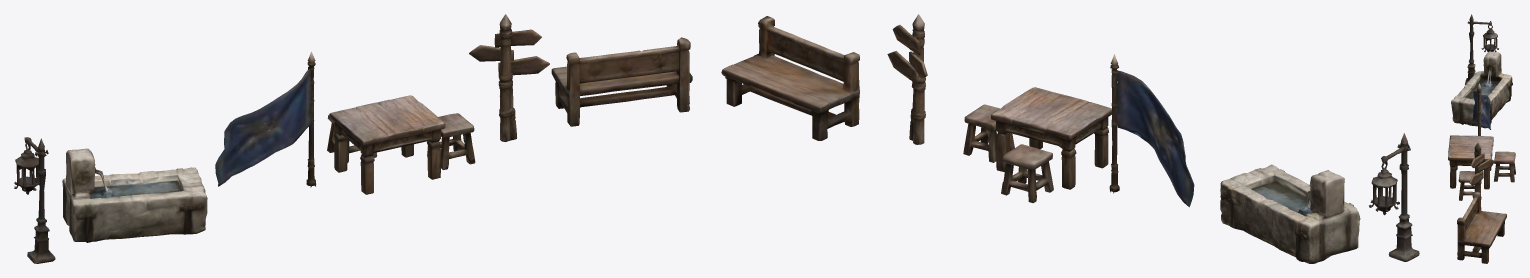
The model's file is props_street.glb.
The picture shows the model from 3 angles, left to right: view 1: azimuth 30°, elevation 25°; view 2: azimuth 150°, elevation 25°; view 3: azimuth 270°, elevation 25°; orthographic projection. The views are drawn at different scales.
Parts seen in each view (by area): view 1: trough, table_stool, bench, flag, signpost, lantern; view 2: table_stool, trough, bench, flag, lantern, signpost; view 3: trough, table_stool, bench, lantern, flag, signpost.
Boxes of the visible parts, box(x1,y1,x2,y2) form: trough: box(62, 148, 207, 242); table_stool: box(327, 95, 475, 194); bench: box(551, 37, 692, 126); flag: box(215, 51, 316, 187); signpost: box(469, 14, 549, 141); lantern: box(14, 137, 55, 263); table_stool: box(963, 87, 1111, 202); trough: box(1220, 164, 1360, 263); bench: box(721, 16, 859, 140); flag: box(1109, 54, 1194, 207); lantern: box(1369, 133, 1419, 261); signpost: box(887, 14, 927, 144); trough: box(1451, 51, 1512, 128); table_stool: box(1448, 135, 1515, 200); bench: box(1457, 191, 1506, 263); lantern: box(1465, 14, 1498, 84); flag: box(1472, 83, 1490, 135); signpost: box(1469, 142, 1494, 210).
Bounding box in the file's own units: 1.82 × 0.3531 × 0.2818.
1 material, 1 textured.
